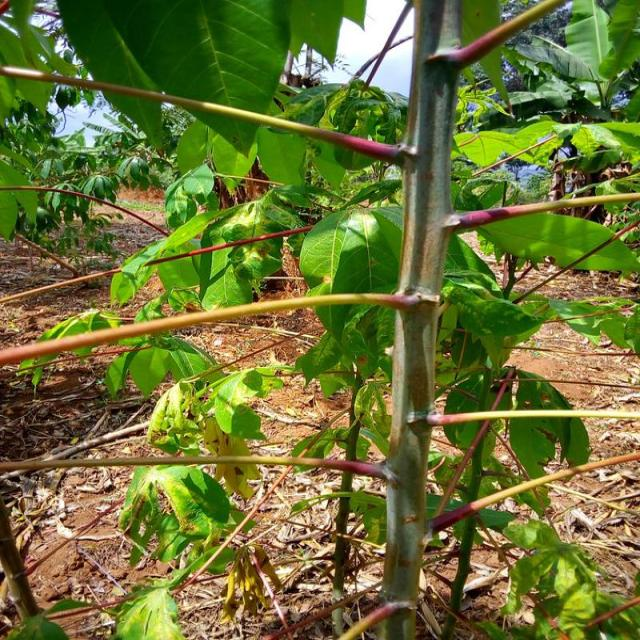cassava leaf: (56, 0, 292, 162)
